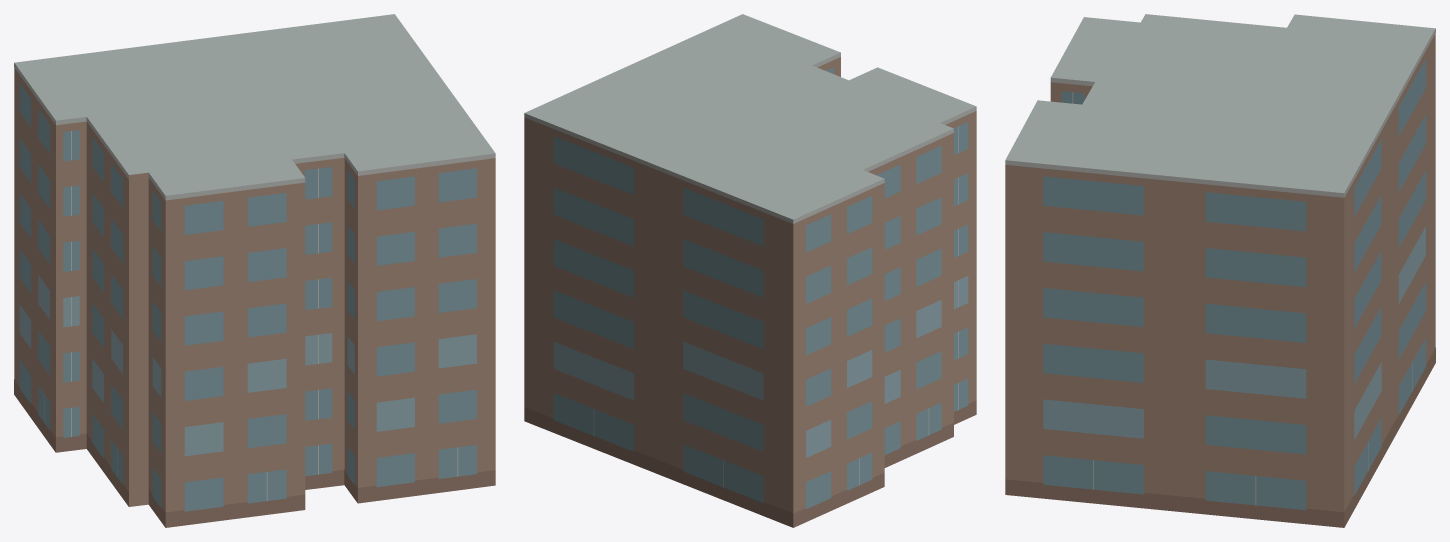
The model's file is survey-upis-32598954.glb.
3 renders of one model, left to right at view 1: azimuth 30°, elevation 25°; view 2: azimuth 150°, elevation 25°; view 3: azimuth 270°, elevation 25°, orthographic. The views are drawn at different scales.
Parts seen in each view (by area): view 1: survey-upis-32598954.tmp; view 2: survey-upis-32598954.tmp; view 3: survey-upis-32598954.tmp.
Boxes of the visible parts, <box> form: survey-upis-32598954.tmp: <box>14,14,495,527</box>; survey-upis-32598954.tmp: <box>524,14,976,527</box>; survey-upis-32598954.tmp: <box>1005,14,1435,527</box>.
Size of the model in its own units: 20.46 by 17.8 by 20.76.
